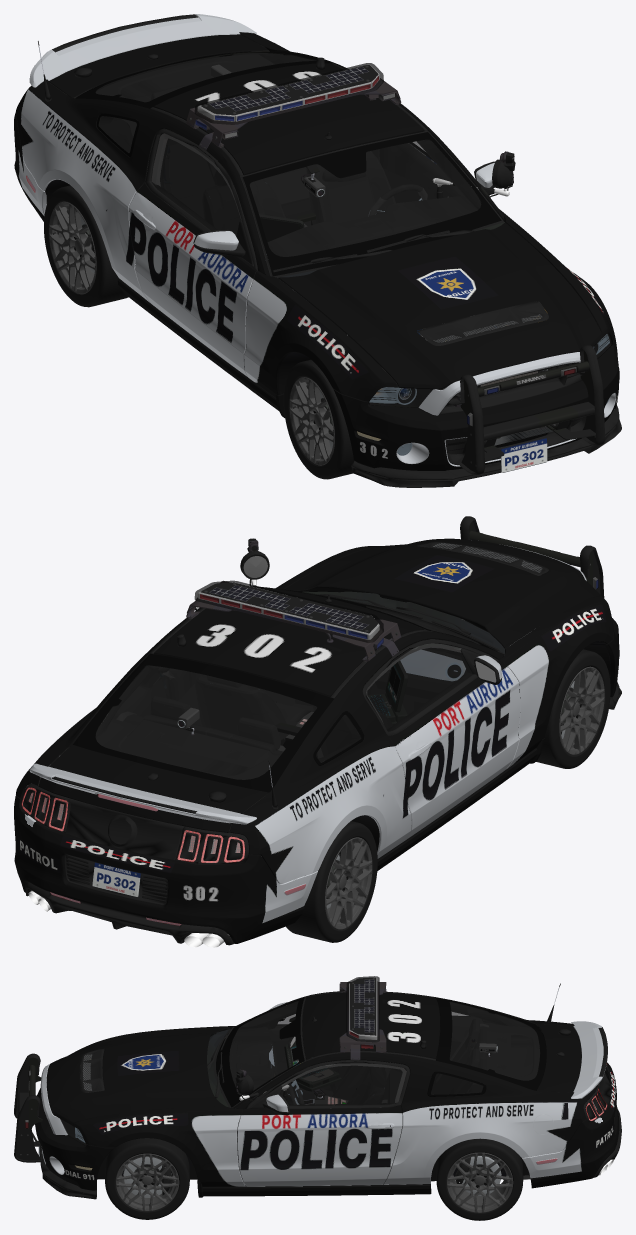
Rendered from car-police-gt500.glb.
3 renders of one model, top to bottom at view 1: azimuth 30°, elevation 25°; view 2: azimuth 150°, elevation 25°; view 3: azimuth 270°, elevation 25°, orthographic. The views are drawn at different scales.
Visible parts, largest first — view 1: COP:car_ford_shelbygt500_2013_enforcer_Mesh_lod0M_Paint_Meta, COP:car_ford_shelbygt500_2013_enforcer_Mesh_lod0M_Glass_Wind (×2), COP:car_ford_shelbygt500_2013_enforcer_Mesh_lod0M_Opaque_Pla, COP:car_ford_shelbygt500_2013_enforcer_Mesh_lod0M_Internal_E, COP:car_ford_shelbygt500_2013_enforcer_Mesh_lod0M_Paint_Plas, COP:car_ford_shelbygt500_2013_enforcer_Mesh_lod0M_Glass_Mirr, COP:car_ford_shelbygt500_2013_enforcer_Mesh_lod0M_CopProps_H, rim_RR, tire_RR, tire_FR, rim_FR, COP:car_ford_shelbygt500_2013_enforcer_Mesh_lod0M_Chassis_Hi (+2 smaller); view 2: COP:car_ford_shelbygt500_2013_enforcer_Mesh_lod0M_Paint_Meta, COP:car_ford_shelbygt500_2013_enforcer_Mesh_lod0M_Glass_Wind (×3), COP:car_ford_shelbygt500_2013_enforcer_Mesh_lod0M_Opaque_Pla, COP:car_ford_shelbygt500_2013_enforcer_Mesh_lod0M_Internal_E, COP:car_ford_shelbygt500_2013_enforcer_Mesh_lod0M_Paint_Plas, COP:car_ford_shelbygt500_2013_enforcer_Mesh_lod0M_Glass_Mirr, COP:car_ford_shelbygt500_2013_enforcer_Mesh_lod0M_CopProps_H, tire_RR, rim_RR, rim_FR, tire_FR, COP:car_ford_shelbygt500_2013_enforcer_Mesh_lod0M_LightRefra (+4 smaller); view 3: COP:car_ford_shelbygt500_2013_enforcer_Mesh_lod0M_Paint_Meta, COP:car_ford_shelbygt500_2013_enforcer_Mesh_lod0M_Glass_Wind (×2), COP:car_ford_shelbygt500_2013_enforcer_Mesh_lod0M_Internal_E, COP:car_ford_shelbygt500_2013_enforcer_Mesh_lod0M_Opaque_Pla, COP:car_ford_shelbygt500_2013_enforcer_Mesh_lod0M_Paint_Plas, COP:car_ford_shelbygt500_2013_enforcer_Mesh_lod0M_Glass_Mirr, tire_FL, tire_RL, rim_RL, rim_FL, COP:car_ford_shelbygt500_2013_enforcer_Mesh_lod0M_CopProps_H, COP:car_ford_shelbygt500_2013_enforcer_Mesh_lod0M_Chassis_Hi (+3 smaller).
Part boxes in pixels (x1=…): COP:car_ford_shelbygt500_2013_enforcer_Mesh_lod0M_Paint_Meta: x1=16, y1=14, x2=613, y2=417; COP:car_ford_shelbygt500_2013_enforcer_Mesh_lod0M_Glass_Wind (×2): x1=96, y1=52, x2=612, y2=455; COP:car_ford_shelbygt500_2013_enforcer_Mesh_lod0M_Opaque_Pla: x1=38, y1=14, x2=621, y2=487; COP:car_ford_shelbygt500_2013_enforcer_Mesh_lod0M_Internal_E: x1=59, y1=45, x2=547, y2=389; COP:car_ford_shelbygt500_2013_enforcer_Mesh_lod0M_Paint_Plas: x1=14, y1=112, x2=619, y2=470; COP:car_ford_shelbygt500_2013_enforcer_Mesh_lod0M_Glass_Mirr: x1=75, y1=51, x2=501, y2=276; COP:car_ford_shelbygt500_2013_enforcer_Mesh_lod0M_CopProps_H: x1=189, y1=64, x2=595, y2=466; rim_RR: x1=49, y1=201, x2=96, y2=294; tire_RR: x1=44, y1=185, x2=128, y2=307; tire_FR: x1=283, y1=359, x2=353, y2=479; rim_FR: x1=289, y1=377, x2=334, y2=465; COP:car_ford_shelbygt500_2013_enforcer_Mesh_lod0M_Chassis_Hi: x1=45, y1=179, x2=609, y2=468; COP:car_ford_shelbygt500_2013_enforcer_Mesh_lod0M_Paint_Meta: x1=16, y1=538, x2=613, y2=883; COP:car_ford_shelbygt500_2013_enforcer_Mesh_lod0M_Glass_Wind (×3): x1=22, y1=556, x2=598, y2=925; COP:car_ford_shelbygt500_2013_enforcer_Mesh_lod0M_Opaque_Pla: x1=21, y1=516, x2=621, y2=947; COP:car_ford_shelbygt500_2013_enforcer_Mesh_lod0M_Internal_E: x1=32, y1=546, x2=546, y2=860; COP:car_ford_shelbygt500_2013_enforcer_Mesh_lod0M_Paint_Plas: x1=14, y1=545, x2=619, y2=943; COP:car_ford_shelbygt500_2013_enforcer_Mesh_lod0M_Glass_Mirr: x1=73, y1=587, x2=496, y2=792; COP:car_ford_shelbygt500_2013_enforcer_Mesh_lod0M_CopProps_H: x1=178, y1=542, x2=597, y2=762; tire_RR: x1=286, y1=821, x2=377, y2=942; rim_RR: x1=325, y1=837, x2=372, y2=929; rim_FR: x1=559, y1=666, x2=604, y2=755; tire_FR: x1=536, y1=649, x2=610, y2=768; COP:car_ford_shelbygt500_2013_enforcer_Mesh_lod0M_LightRefra: x1=22, y1=787, x2=244, y2=862; COP:car_ford_shelbygt500_2013_enforcer_Mesh_lod0M_Paint_Meta: x1=46, y1=991, x2=606, y2=1197; COP:car_ford_shelbygt500_2013_enforcer_Mesh_lod0M_Glass_Wind (×2): x1=26, y1=976, x2=596, y2=1145; COP:car_ford_shelbygt500_2013_enforcer_Mesh_lod0M_Internal_E: x1=47, y1=1001, x2=544, y2=1137; COP:car_ford_shelbygt500_2013_enforcer_Mesh_lod0M_Opaque_Pla: x1=14, y1=977, x2=621, y2=1199; COP:car_ford_shelbygt500_2013_enforcer_Mesh_lod0M_Paint_Plas: x1=35, y1=1062, x2=619, y2=1190; COP:car_ford_shelbygt500_2013_enforcer_Mesh_lod0M_Glass_Mirr: x1=216, y1=997, x2=546, y2=1107; tire_FL: x1=105, y1=1138, x2=189, y2=1219; tire_RL: x1=436, y1=1138, x2=523, y2=1220; rim_RL: x1=446, y1=1152, x2=513, y2=1212; rim_FL: x1=115, y1=1153, x2=179, y2=1211; COP:car_ford_shelbygt500_2013_enforcer_Mesh_lod0M_CopProps_H: x1=20, y1=978, x2=496, y2=1155; COP:car_ford_shelbygt500_2013_enforcer_Mesh_lod0M_Chassis_Hi: x1=53, y1=1028, x2=530, y2=1181.
Size of the model in its own units: 2.04 by 1.52 by 4.97.
22 materials, 13 textured.
